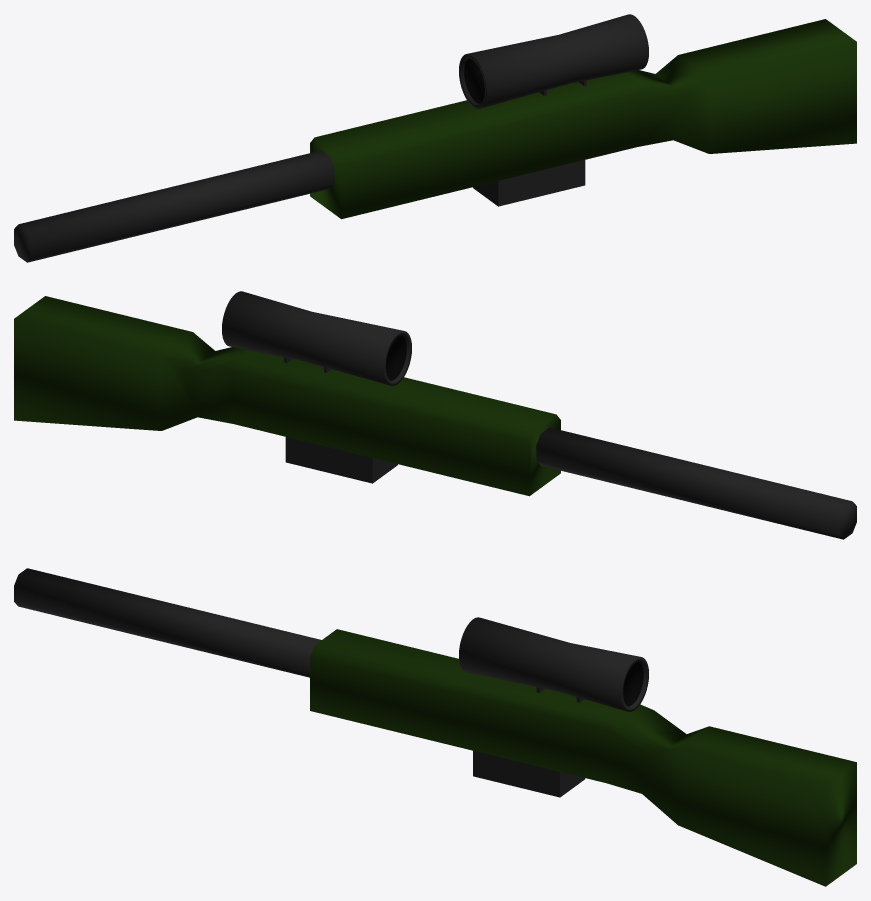
Rendered from sniper.glb.
3 views of the same model, one above another, from view 1: azimuth 30°, elevation 25°; view 2: azimuth 150°, elevation 25°; view 3: azimuth 330°, elevation 25° (orthographic).
Visible parts, largest first — view 1: Cube.001, Cube.002, Cylinder, Cube; view 2: Cube.001, Cube.002, Cylinder, Cube; view 3: Cube.001, Cube.002, Cylinder, Cube.
Part boxes in pixels (x1,y1,x2,y2): Cube.001: [310, 19, 856, 219]; Cube.002: [14, 150, 334, 262]; Cylinder: [459, 14, 648, 108]; Cube: [473, 160, 585, 206]; Cube.001: [14, 296, 560, 496]; Cube.002: [536, 427, 856, 539]; Cylinder: [222, 291, 411, 385]; Cube: [285, 437, 397, 483]; Cube.001: [310, 629, 856, 886]; Cube.002: [14, 568, 321, 677]; Cylinder: [459, 617, 648, 712]; Cube: [473, 750, 585, 797].
Bounding box in the file's own units: 4.23 × 0.8213 × 0.28.
